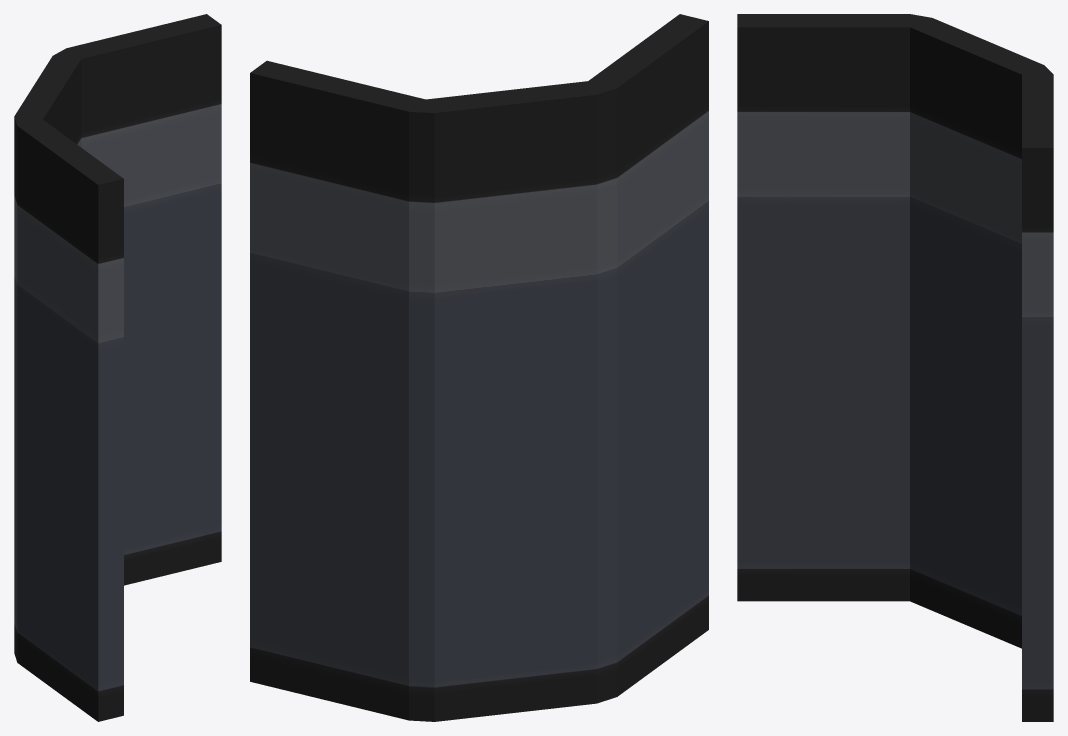
The model's file is SM_Wall_Corner_Round.fbx.
The picture shows the model from 3 angles, left to right: view 1: azimuth 30°, elevation 25°; view 2: azimuth 150°, elevation 25°; view 3: azimuth 270°, elevation 25°; orthographic projection. The views are drawn at different scales.
Visible parts, largest first — view 1: Wall_Corner_Round; view 2: Wall_Corner_Round; view 3: Wall_Corner_Round.
Boxes of the visible parts, x1=… form: Wall_Corner_Round: x1=14, y1=14, x2=221, y2=721; Wall_Corner_Round: x1=250, y1=14, x2=708, y2=721; Wall_Corner_Round: x1=737, y1=14, x2=1053, y2=721.
Size of the model in its own units: 1 by 2 by 0.9996.
